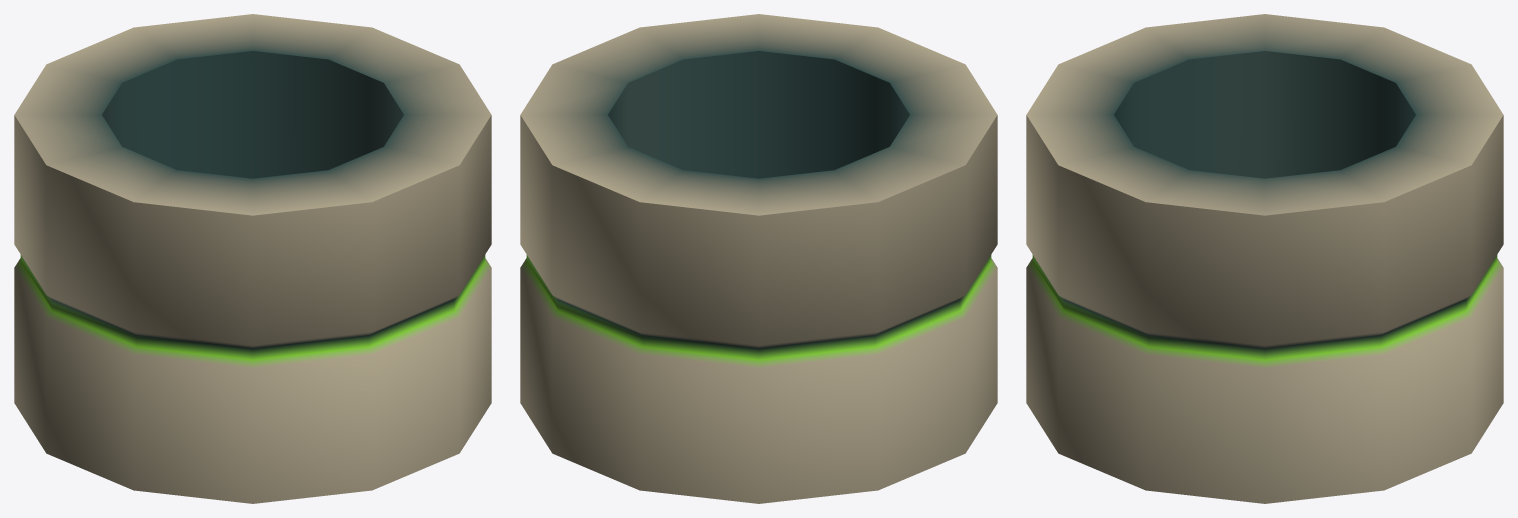
File: intake_throat.glb
3 views of the same model, side by side, from view 1: azimuth 30°, elevation 25°; view 2: azimuth 150°, elevation 25°; view 3: azimuth 270°, elevation 25° (orthographic).
Visible parts, largest first — view 1: Throat; view 2: Throat; view 3: Throat.
Boxes of the visible parts, x1,y1,x2,y2 form: Throat: (14, 14, 491, 503); Throat: (520, 14, 997, 503); Throat: (1026, 14, 1503, 503).
Size of the model in its own units: 3 by 2 by 3.
